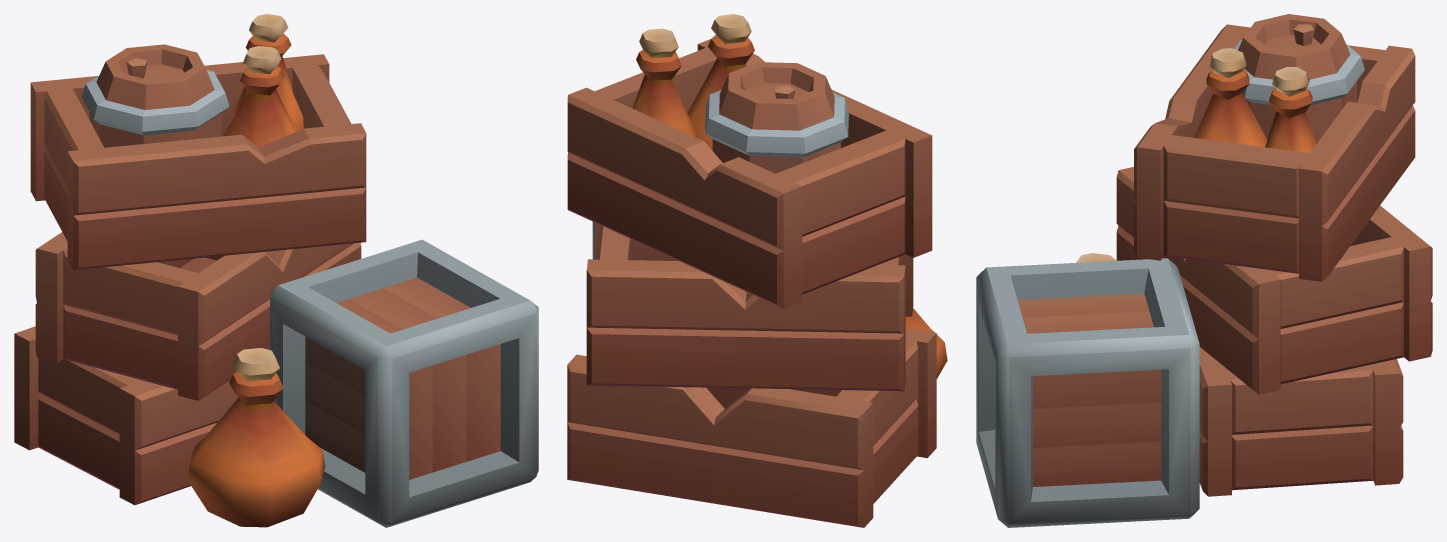
The model's file is crates.glb.
3 views of the same model, side by side, from view 1: azimuth 30°, elevation 25°; view 2: azimuth 150°, elevation 25°; view 3: azimuth 270°, elevation 25° (orthographic). The views are drawn at different scales.
Visible parts, largest first — view 1: crates_stacked; view 2: crates_stacked; view 3: crates_stacked.
Part boxes in pixels (<box>): crates_stacked: <box>14,14,538,527</box>; crates_stacked: <box>567,14,947,527</box>; crates_stacked: <box>976,14,1432,527</box>.
Bounding box in the file's own units: 2.09 × 2.14 × 2.25.
1 material, 1 textured.
